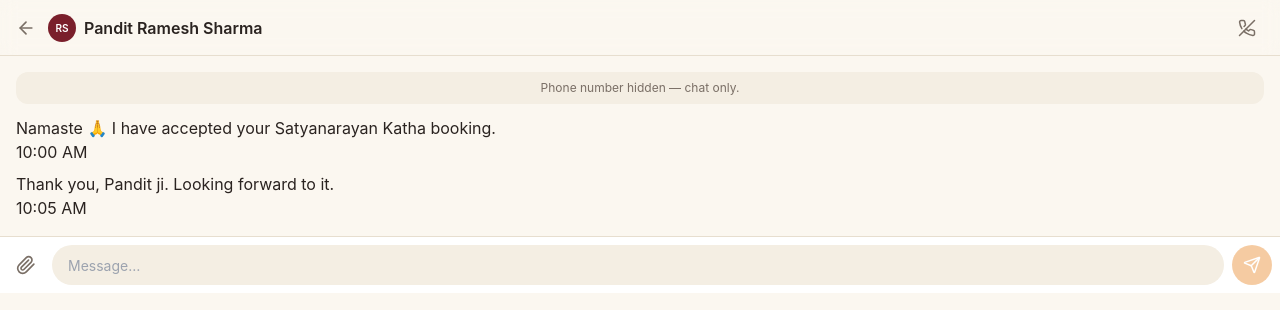
Test: ChatThreadScreen › toggles phone sharing
The width and height of the screenshot is (1280, 310).
Expected: the text "Phone number hidden — chat only." is shown, [16,72,1264,104]
Click the button named "Toggle phone sharing".
click(1247, 28)  # box [1230,10,1264,44]
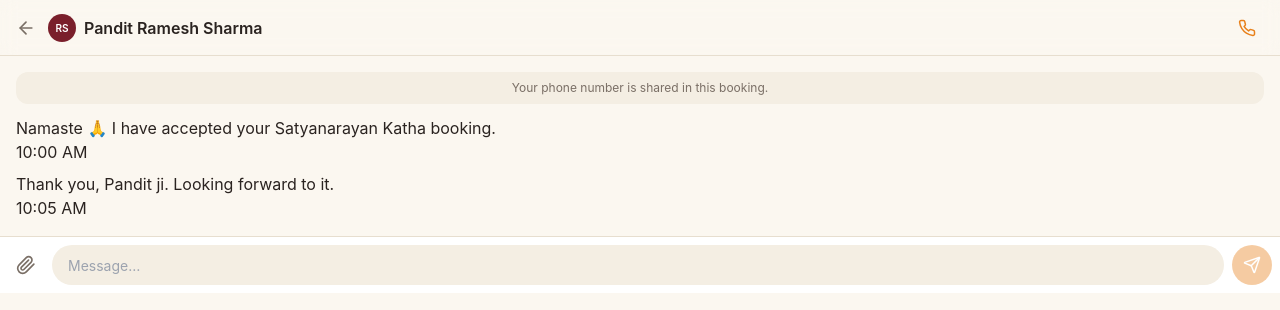
Expected: the text "Your phone number is shared in this booking." is shown, [16,72,1264,104]
